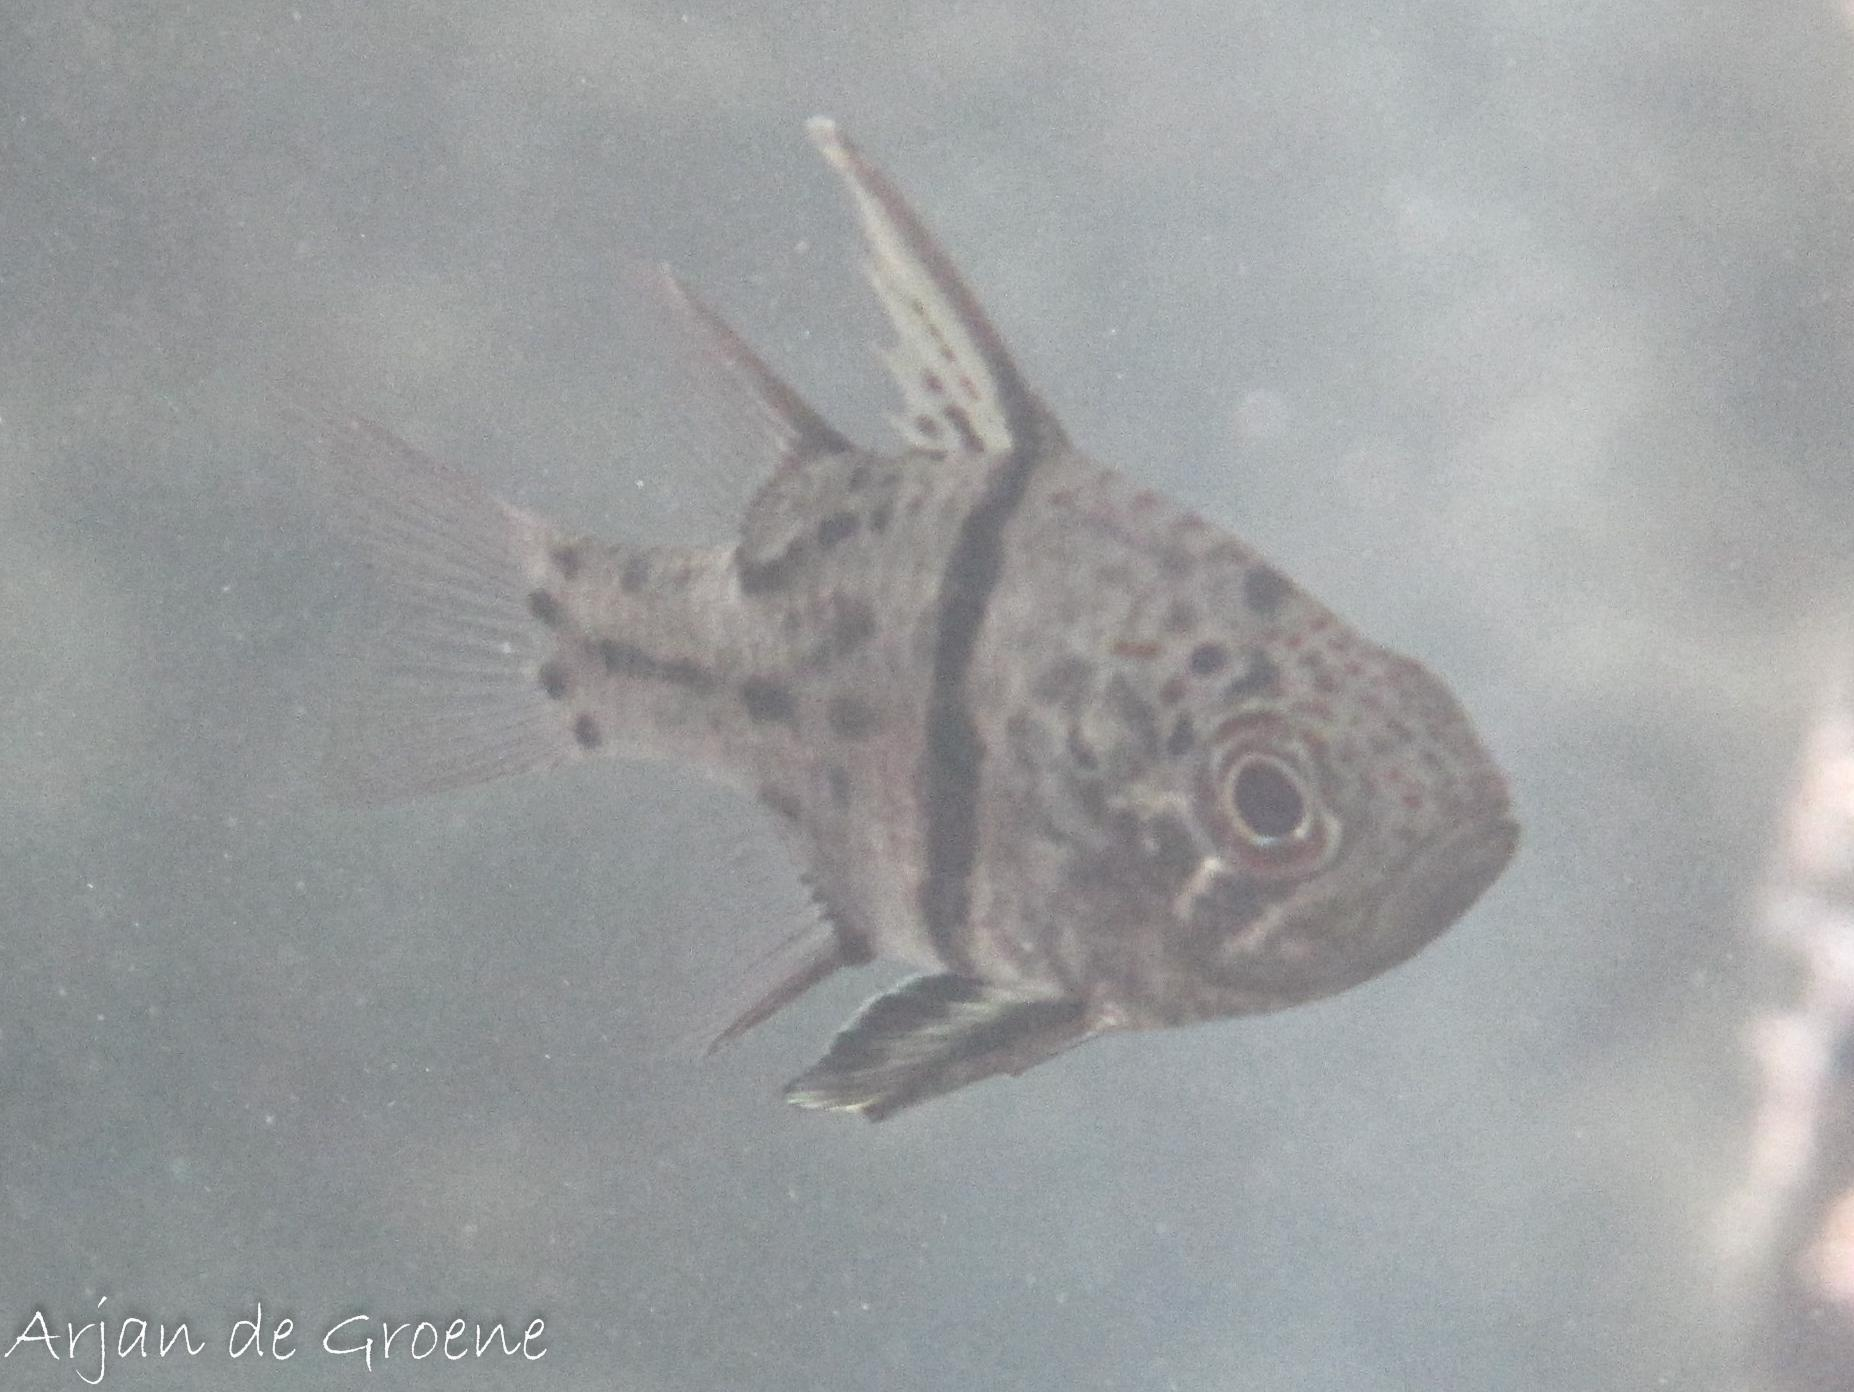Fish: (257, 88, 1543, 1139)
